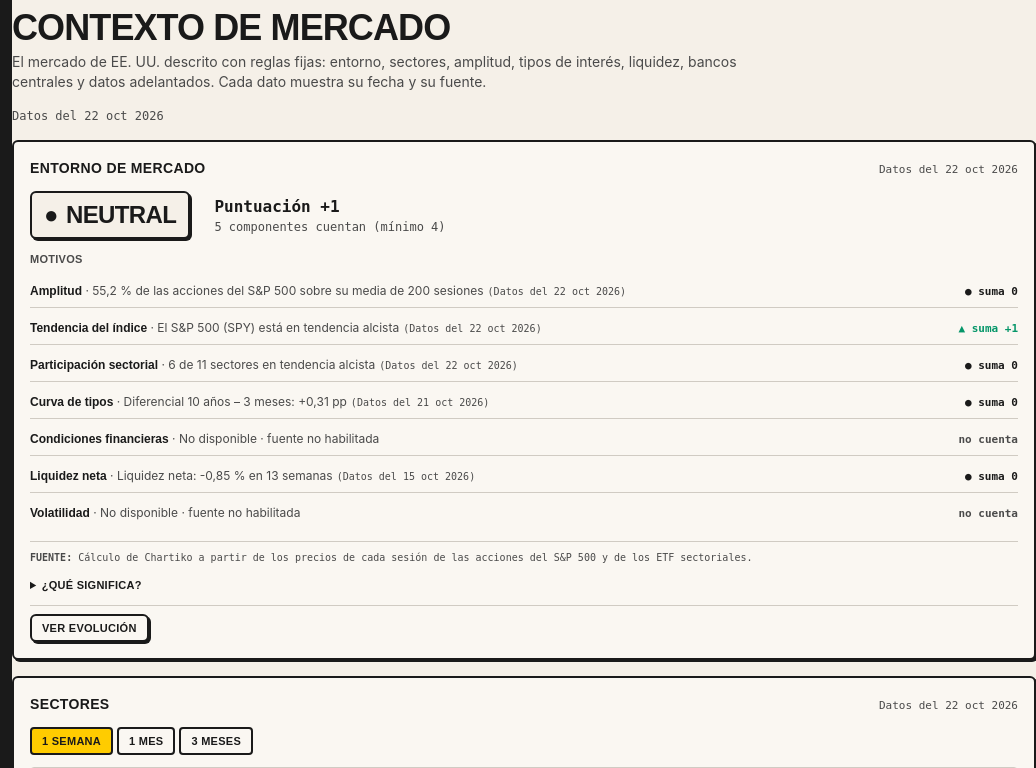
Test case: MarketPage (Scenario 1: Registered User) › switches the return column with the period control
The width and height of the screenshot is (1036, 768).
Click the button "3 meses" at (216, 741), box [179,727,253,755]
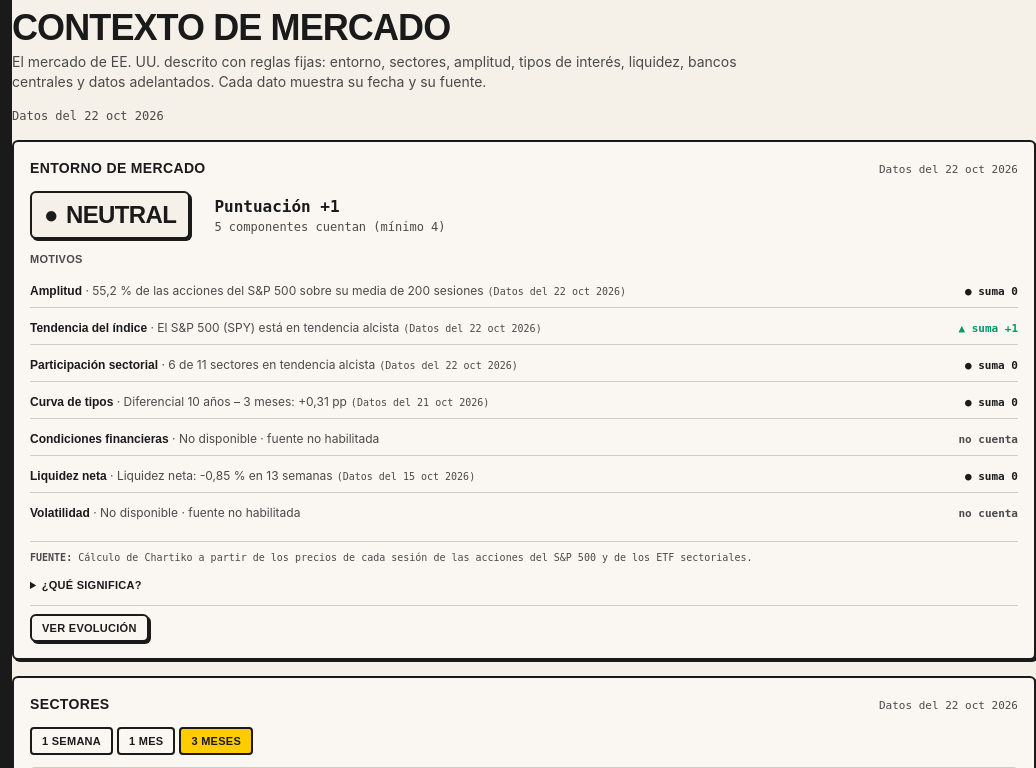
Expected: the button "3 meses" is pressed, [179,727,253,755]
Click the button "1 mes" at (146, 741), box [117,727,175,755]
(page scrolled)
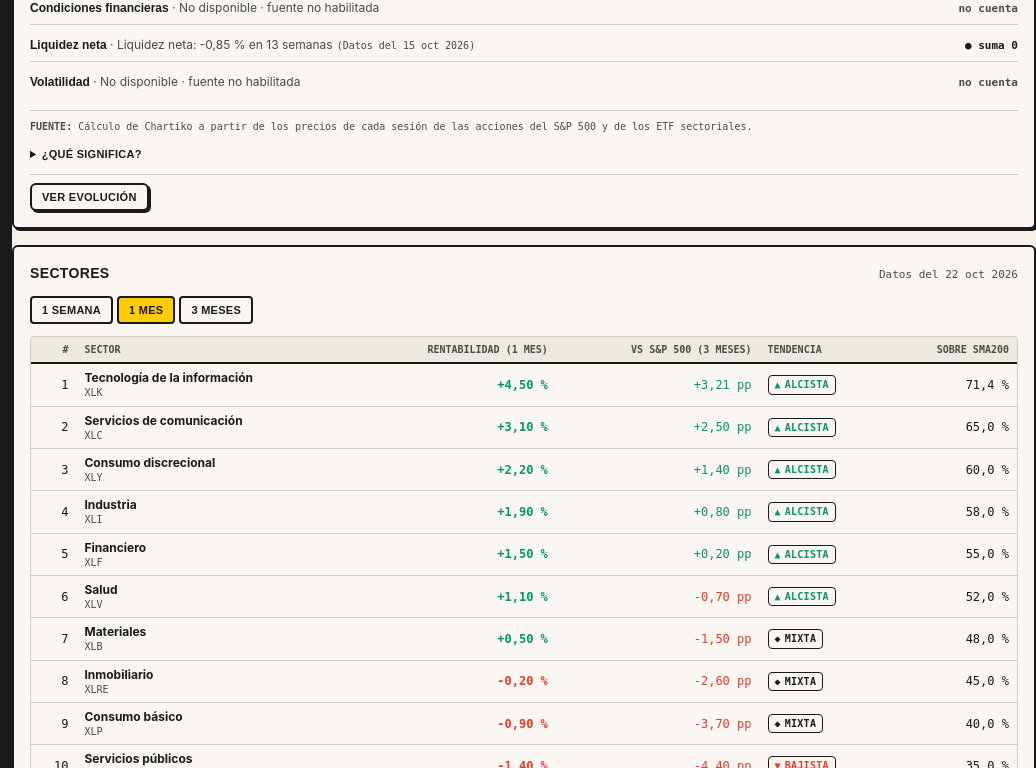
Expected: the row that starts with "Tecnología de la información" shows "+3,21 pp", [694,378,752,392]
Expected: the row that starts with "Tecnología de la información" shows "+4,50 %", [497,378,548,392]
